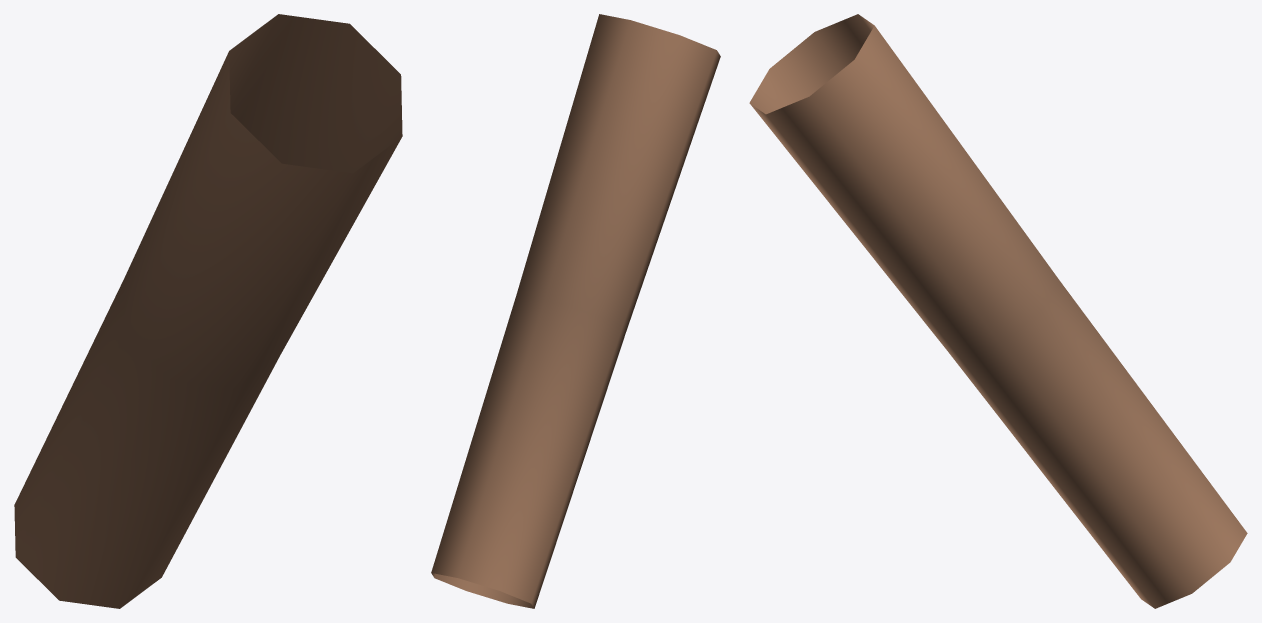
File: Sparrow_Body_Limb1L.fbx
The picture shows the model from 3 angles, left to right: view 1: azimuth 30°, elevation 25°; view 2: azimuth 150°, elevation 25°; view 3: azimuth 270°, elevation 25°; orthographic projection. The views are drawn at different scales.
Parts seen in each view (by area): view 1: Sparrow_Body_Limb1L; view 2: Sparrow_Body_Limb1L; view 3: Sparrow_Body_Limb1L.
Boxes of the visible parts, <box> form: Sparrow_Body_Limb1L: <box>14,14,402,608</box>; Sparrow_Body_Limb1L: <box>431,14,720,608</box>; Sparrow_Body_Limb1L: <box>749,14,1247,608</box>.
Size of the model in its own units: 0.133 by 0.5429 by 0.4301.
